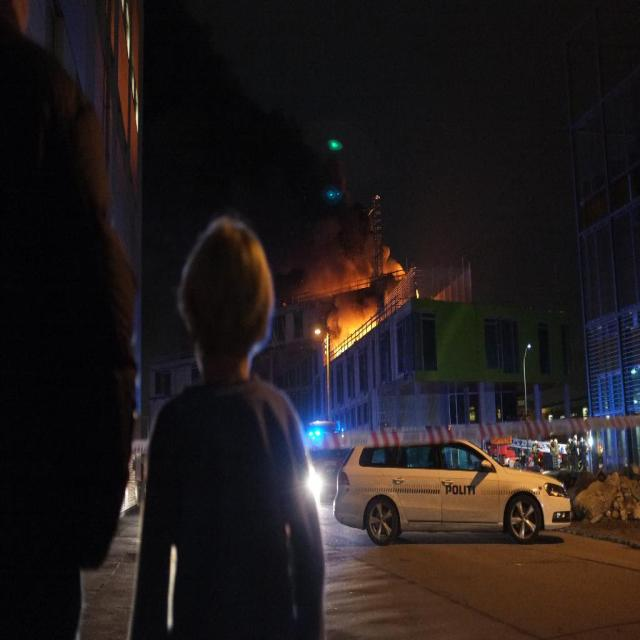car: (333, 435, 573, 546)
